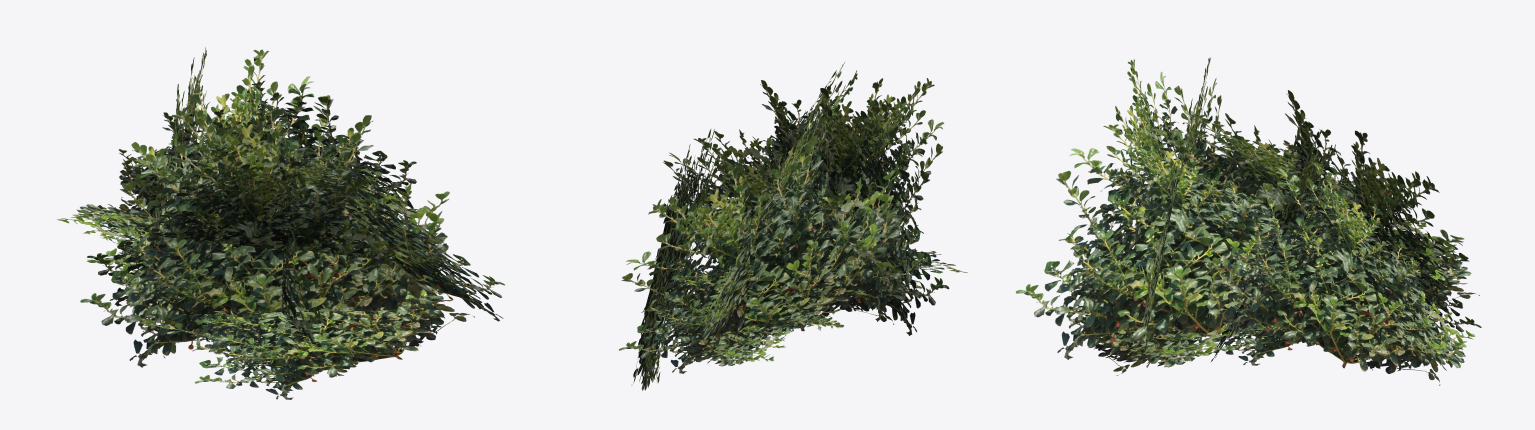
File: trees_and_bush_pack_bush_med2.glb
The picture shows the model from 3 angles, left to right: view 1: azimuth 30°, elevation 25°; view 2: azimuth 150°, elevation 25°; view 3: azimuth 270°, elevation 25°; orthographic projection. The views are drawn at different scales.
Parts seen in each view (by area): view 1: BushMed2; view 2: BushMed2; view 3: BushMed2.
Boxes of the visible parts, x1,y1,x2,y2 form: BushMed2: (57,47,505,399); BushMed2: (619,61,967,390); BushMed2: (1015,57,1481,385).
Size of the model in its own units: 1.66 by 1.53 by 2.21.
Materials: 1 (1 with a texture image).
